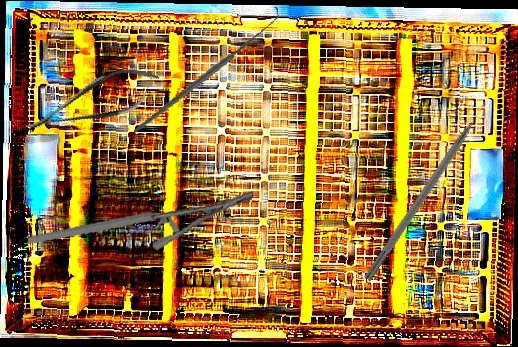Hook Surgical: (362, 94, 495, 283), (119, 6, 293, 135)
Micro Scissor: (18, 56, 167, 148)
Needle Holder: (26, 159, 254, 276)
